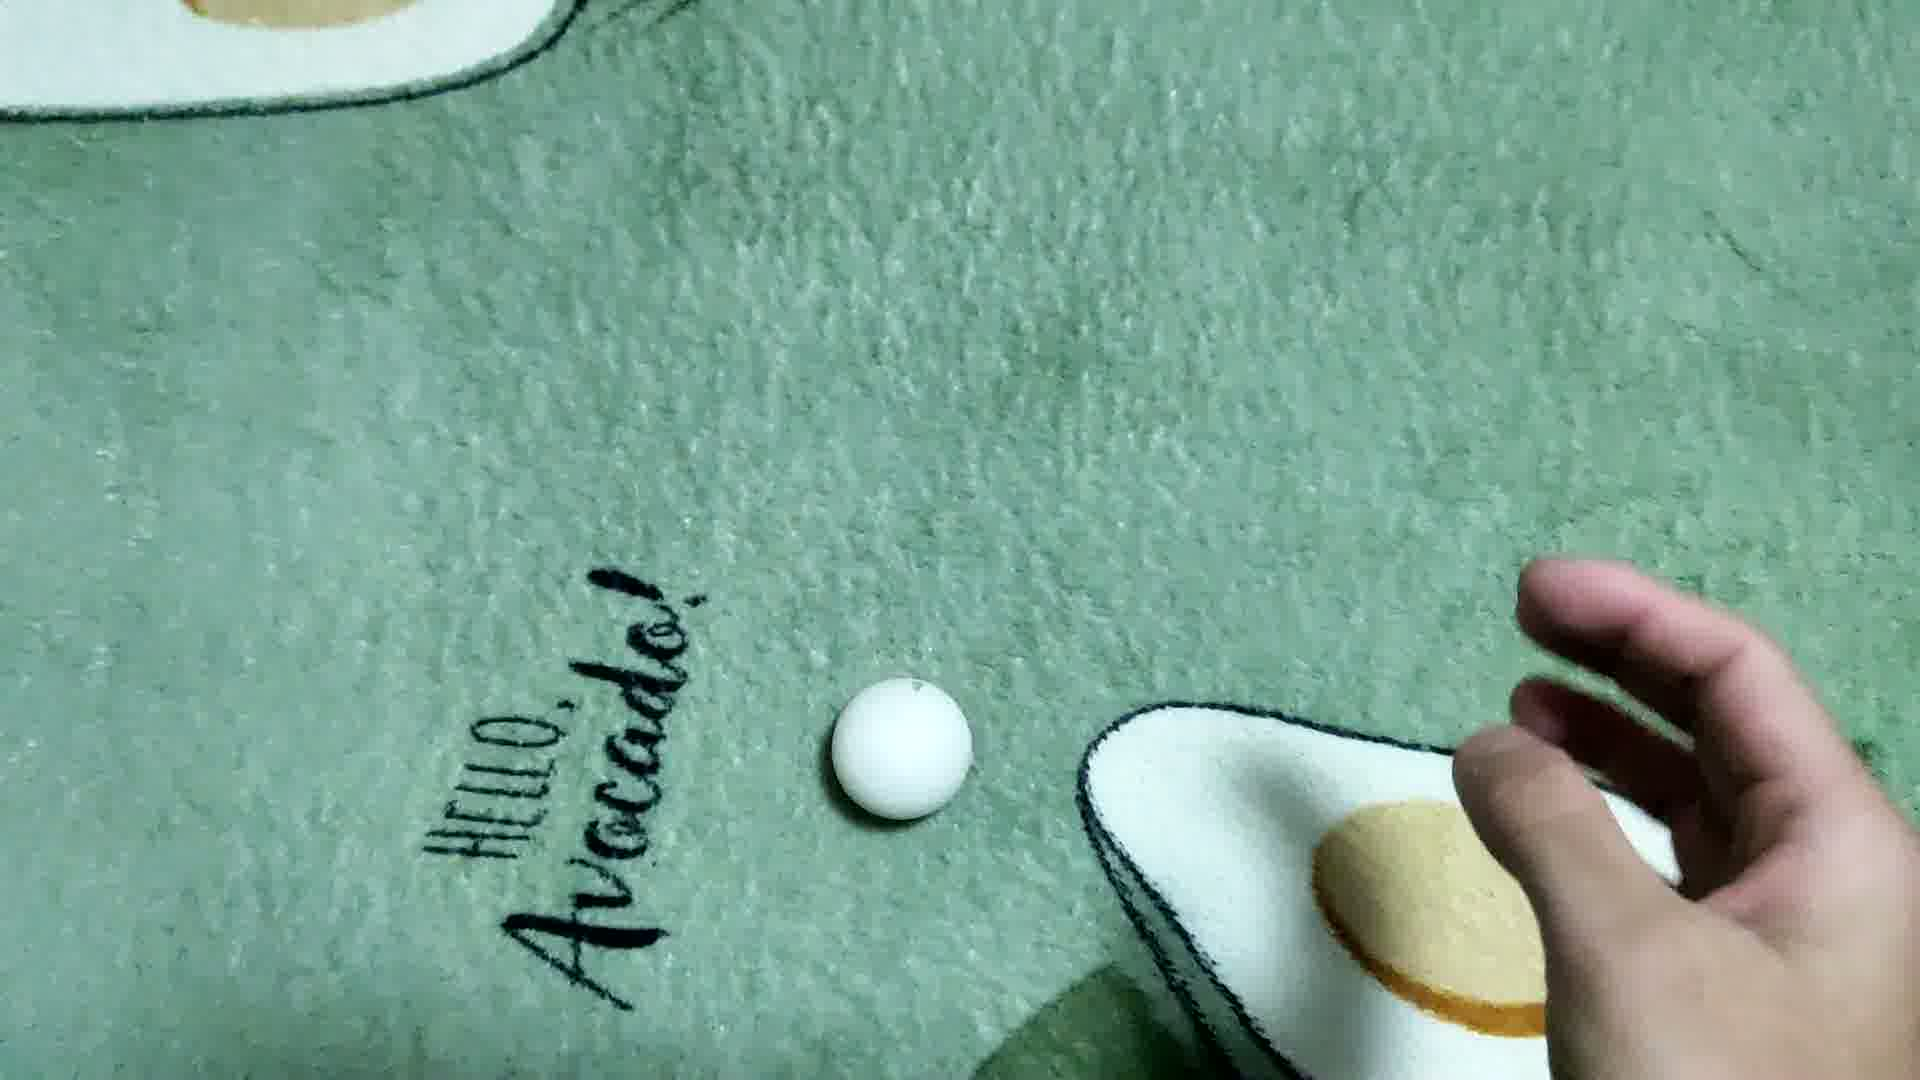Ball: (822, 674, 975, 822)
